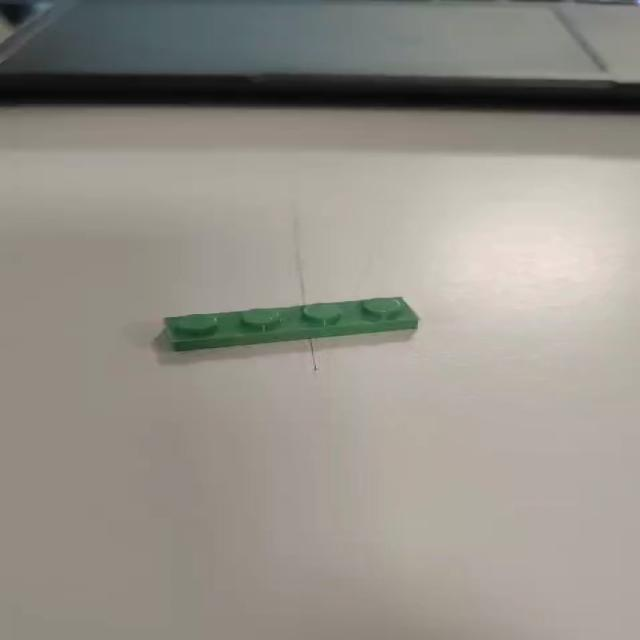C4x1x0: (153, 296, 420, 358)
